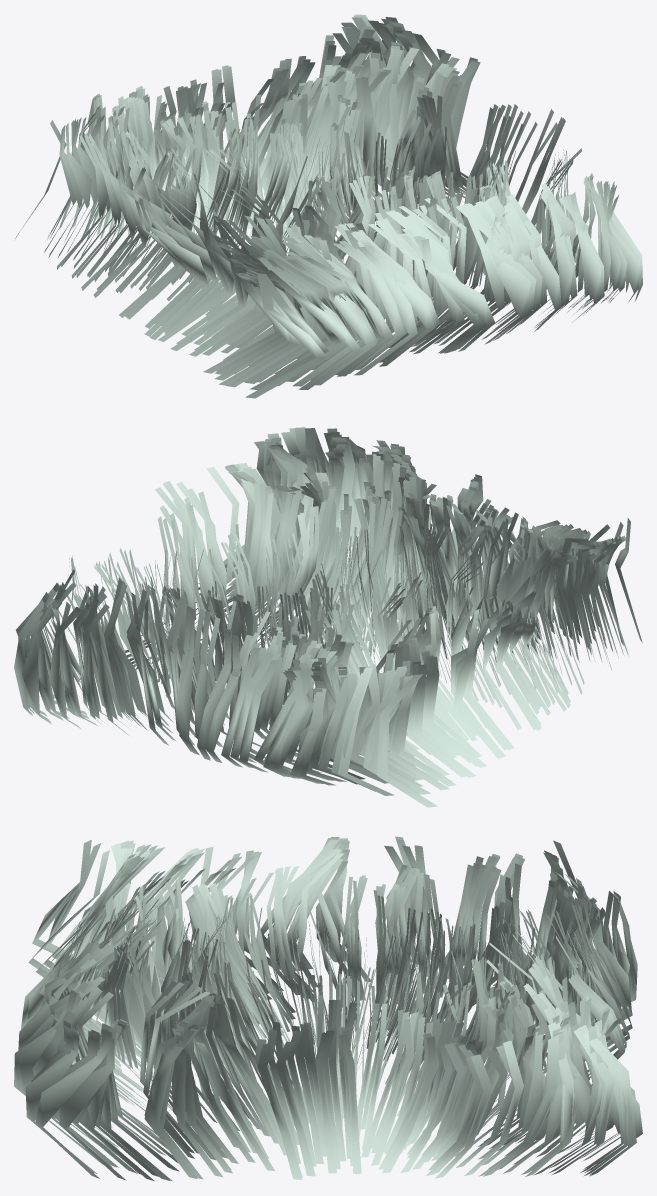
3 views of the same model, one above another, from view 1: azimuth 30°, elevation 25°; view 2: azimuth 150°, elevation 25°; view 3: azimuth 270°, elevation 25° (orthographic). The views are drawn at different scales.
Visible parts, largest first — view 1: Mesh; view 2: Mesh; view 3: Mesh.
Part boxes in pixels (box(x1,y1,x2,y2)): Mesh: box(15, 14, 642, 398); Mesh: box(14, 427, 642, 807); Mesh: box(14, 836, 642, 1181).
Size of the model in its own units: 2.05 by 0.6555 by 2.41.
